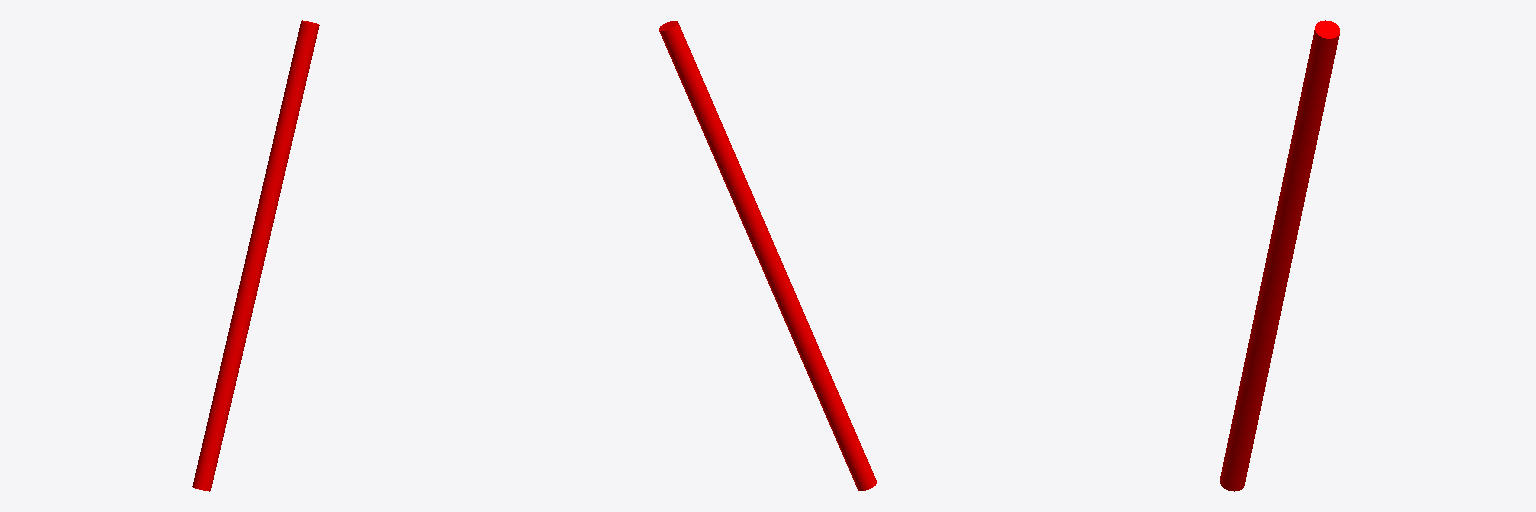
URDF robot description (tree_41.urdf):
<?xml version='1.0' encoding='utf-8'?>
<robot name="tree_41.urdf">
  <link name="branch_0">
    <inertial>
      <origin xyz="0.0 0.0 0.0" rpy="0.0 -0.0 0.0" />
      <mass value="1.0" />
      <inertia ixx="1.0" ixy="0.0" ixz="0.0" iyy="1.0" iyz="0.0" izz="1.0" />
    </inertial>
    <visual name="branch_0_visual">
      <geometry>
        <cylinder radius="0.06526836290877171" length="3.317059187779491" />
      </geometry>
      <material name="semantic_material" />
      <origin xyz="0.5723971939881806 0.2425783428091894 1.5376077567840531" rpy="0.0 0.3842203972613773 0.4008484837676073" />
    </visual>
    <collision name="branch_0_collision">
      <geometry>
        <cylinder radius="0.06526836290877171" length="3.317059187779491" />
      </geometry>
      <origin xyz="0.5723971939881806 0.2425783428091894 1.5376077567840531" rpy="0.0 0.3842203972613773 0.4008484837676073" />
    </collision>
  </link>
  <material name="semantic_material">
    <color rgba="1. 0. 0. 1." />
  </material>
</robot>

--- Facts derived from the render (not from the file) ---
Views: 3 orthographic renders of the robot side by side, from view 1: azimuth 30°, elevation 25°; view 2: azimuth 150°, elevation 25°; view 3: azimuth 270°, elevation 25°.
Model tree_41.urdf with 1 links and 0 joints (none), rooted at branch_0, posed all joints at 0.
Links seen in each view (by area): view 1: branch_0; view 2: branch_0; view 3: branch_0.
Link boxes in pixels (x1,y1,x2,y2): branch_0: [192, 20, 319, 491]; branch_0: [659, 21, 876, 490]; branch_0: [1220, 20, 1339, 491].
Size in the robot's own frame: 1.27 by 0.6143 by 3.12 metres.
Geometry: primitives only (box / cylinder / sphere), no mesh files.